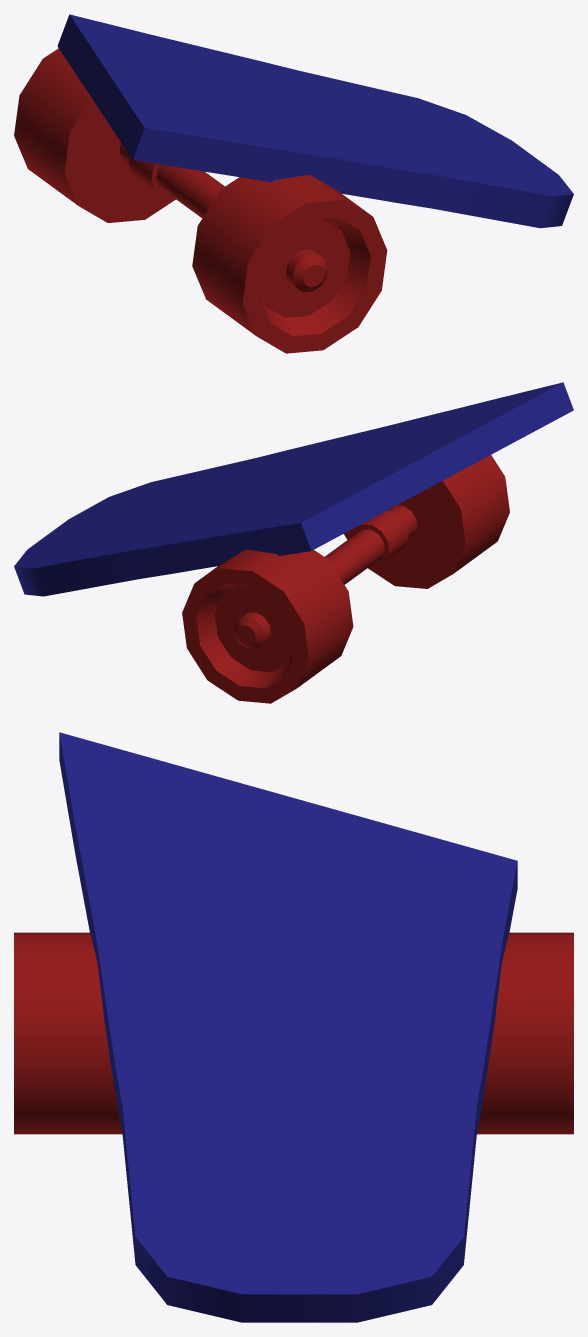
The model's file is SkateboardPart3.fbx.
3 views of the same model, one above another, from view 1: azimuth 30°, elevation 25°; view 2: azimuth 150°, elevation 25°; view 3: azimuth 270°, elevation 25° (orthographic). The views are drawn at different scales.
Parts seen in each view (by area): view 1: SkateboardPart3; view 2: SkateboardPart3; view 3: SkateboardPart3.
Part boxes in pixels (box(x1,y1,x2,y2)): SkateboardPart3: box(14, 14, 573, 353); SkateboardPart3: box(14, 382, 573, 703); SkateboardPart3: box(14, 732, 573, 1322).
Bounding box in the file's own units: 38.59 × 18.39 × 30.53.
